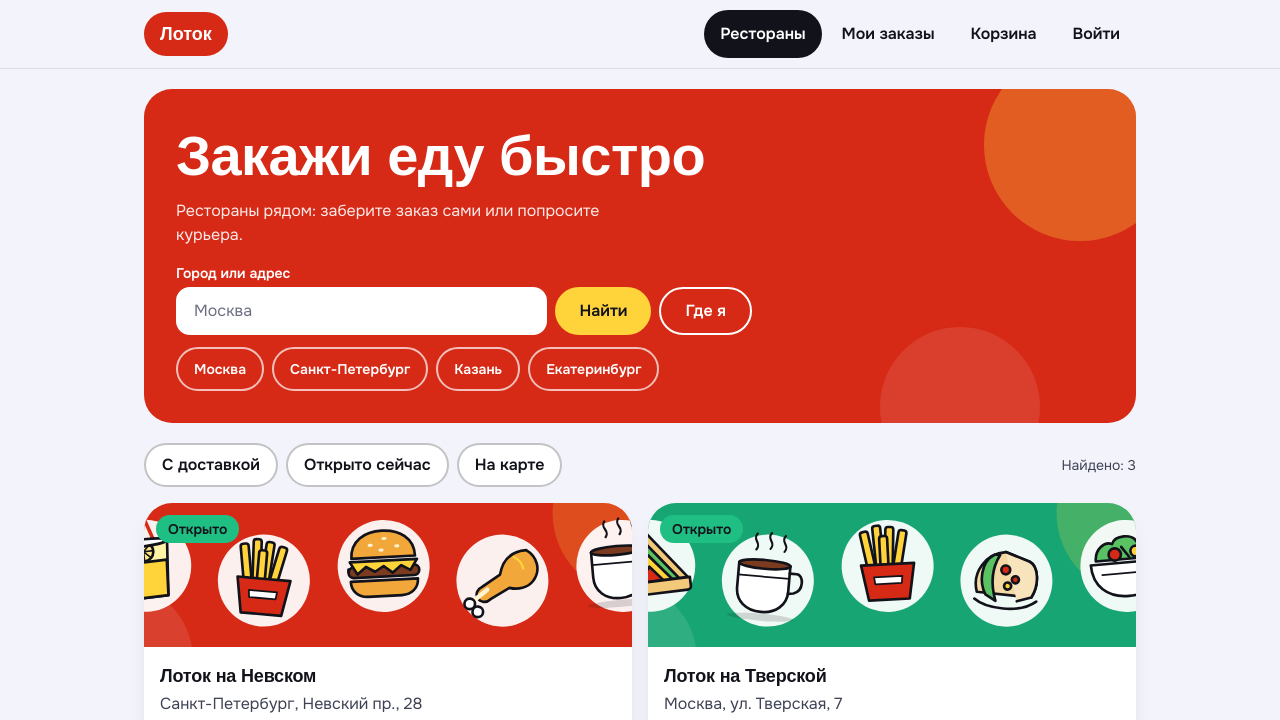
Test: каталог (UC-CAT) › город из справочника ищет, неизвестный адрес даёт подсказку «Уточните адрес» (не ошибку)
In the field labelled "Город или адрес": (362, 311) [176,287,547,335], type "Нижний Новгород"
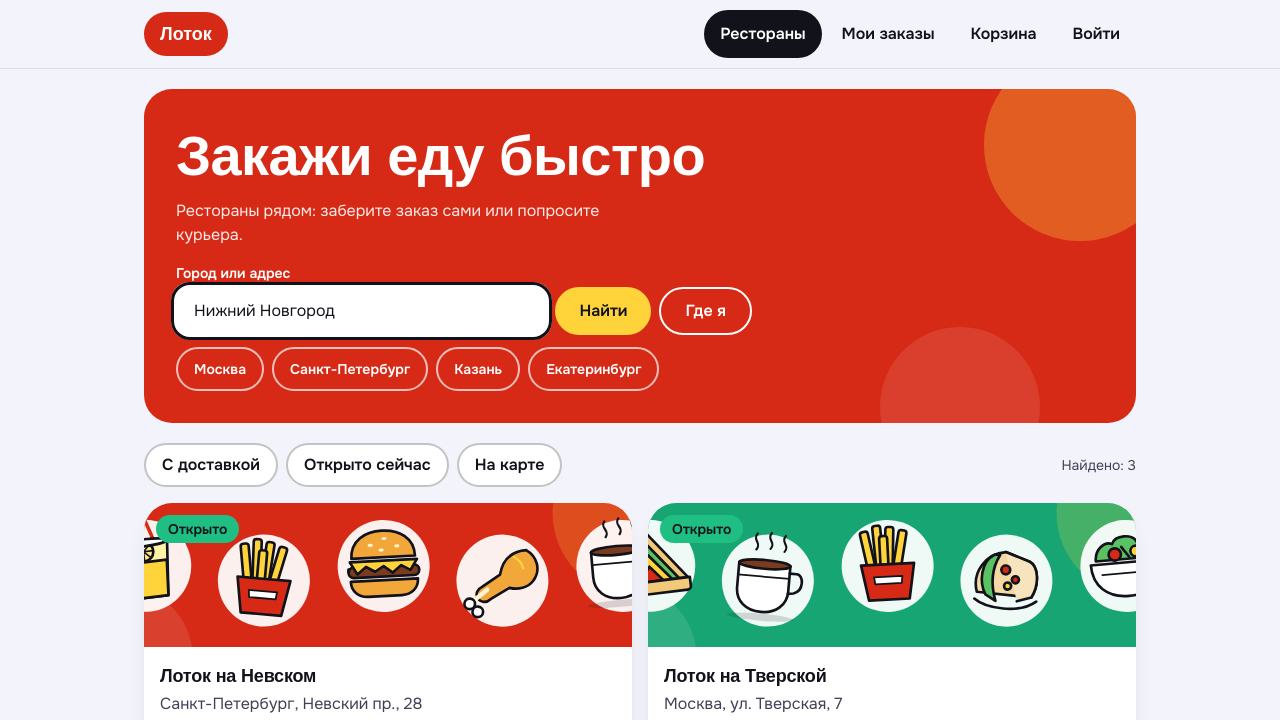
Click the button "Найти": (603, 311) [555,287,651,335]
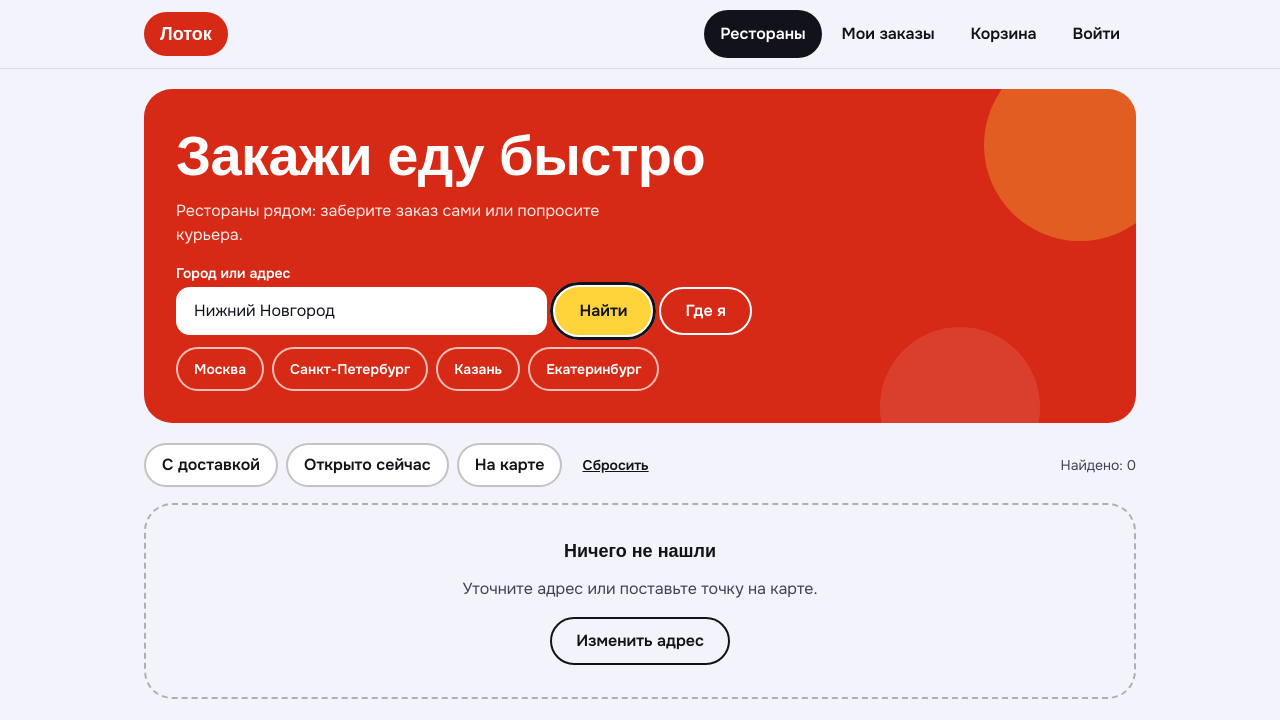
Check: the text "Ничего не нашли" is shown, box [564,541,716,561]
Check: the text "Уточните адрес или поставьте точку на карте." is shown, box [462,578,818,599]
